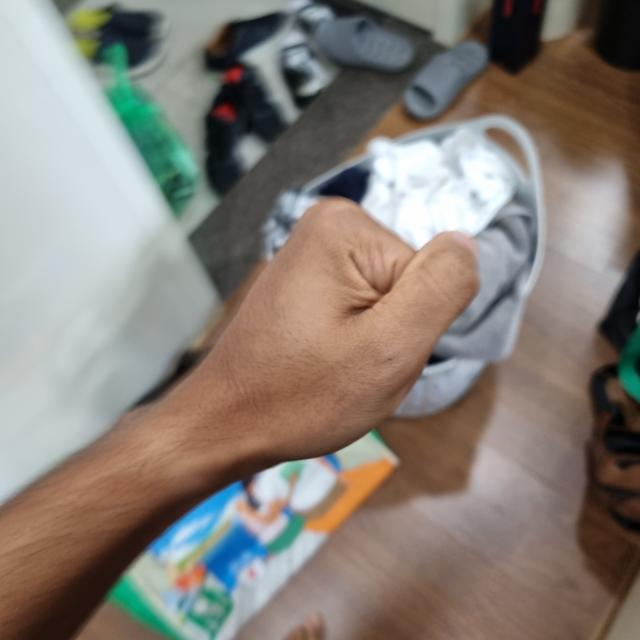Rock: (188, 40, 637, 639)
